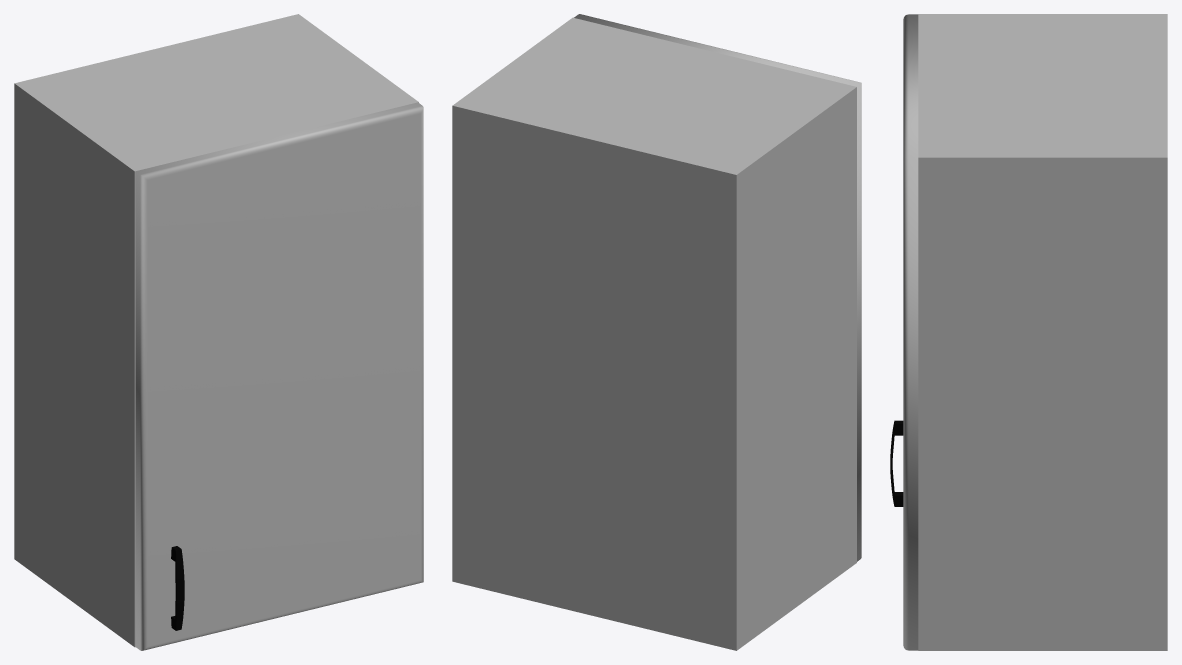
The picture shows the model from 3 angles, left to right: view 1: azimuth 30°, elevation 25°; view 2: azimuth 150°, elevation 25°; view 3: azimuth 270°, elevation 25°; orthographic projection. The views are drawn at different scales.
Visible parts, largest first — view 1: Box011, Box001, Obj3d66-503491-2-344; view 2: Box001, Box011; view 3: Box001, Box011, Obj3d66-503491-2-344.
Part boxes in pixels (x1,y1,x2,y2): Box011: [135, 102, 423, 650]; Box001: [14, 14, 418, 647]; Obj3d66-503491-2-344: [171, 546, 184, 630]; Box001: [452, 17, 856, 650]; Box011: [574, 14, 861, 561]; Box001: [918, 14, 1167, 650]; Box011: [903, 14, 918, 650]; Obj3d66-503491-2-344: [890, 420, 903, 506].
Size of the model in its own units: 0.45 by 0.72 by 0.3671.
Materials: 2 (1 with a texture image).
